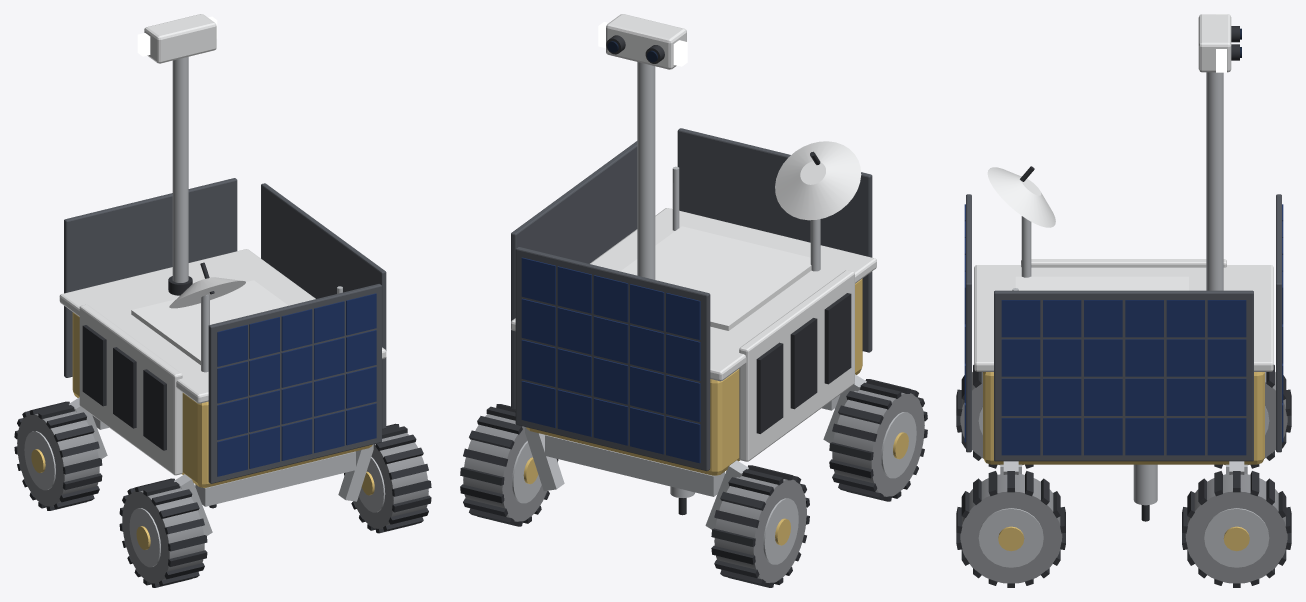
The model's file is rover.glb.
The picture shows the model from 3 angles, left to right: view 1: azimuth 30°, elevation 25°; view 2: azimuth 150°, elevation 25°; view 3: azimuth 270°, elevation 25°; orthographic projection. The views are drawn at different scales.
Parts seen in each view (by area): view 1: chasis, panel_180, panel_0, panel_90, rueda_di, rueda_ti, rueda_td, cabeza; view 2: chasis, panel_0, panel_180, rueda_ti, rueda_di, panel_90, rueda_dd, cabeza; view 3: panel_90, chasis, rueda_dd, rueda_td, cabeza, panel_0, panel_180, rueda_di, rueda_ti.
Part boxes in pixels (bbox=[...]): chasis: bbox=[59, 57, 386, 535]; panel_180: bbox=[208, 284, 381, 483]; panel_0: bbox=[64, 178, 237, 377]; panel_90: bbox=[261, 183, 386, 429]; rueda_di: bbox=[14, 401, 102, 510]; rueda_ti: bbox=[119, 478, 207, 587]; rueda_td: bbox=[344, 423, 431, 533]; cabeza: bbox=[137, 14, 217, 63]; chasis: bbox=[511, 62, 876, 529]; panel_0: bbox=[515, 247, 710, 471]; panel_180: bbox=[677, 128, 872, 352]; rueda_ti: bbox=[829, 379, 927, 501]; rueda_di: bbox=[711, 465, 809, 587]; panel_90: bbox=[511, 141, 637, 410]; rueda_dd: bbox=[460, 404, 558, 526]; cabeza: bbox=[598, 14, 687, 69]; panel_90: bbox=[994, 290, 1253, 461]; chasis: bbox=[974, 72, 1273, 521]; rueda_dd: bbox=[1182, 471, 1291, 587]; rueda_td: bbox=[956, 471, 1065, 587]; cabeza: bbox=[1198, 14, 1241, 72]; panel_0: bbox=[1276, 194, 1283, 452]; panel_180: bbox=[964, 194, 971, 452]; rueda_di: bbox=[1214, 365, 1291, 468]; rueda_ti: bbox=[956, 365, 1033, 468].
Size of the model in its own units: 1.52 by 2.5 by 1.55.
